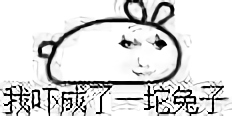dragon: (119, 34, 169, 77)
